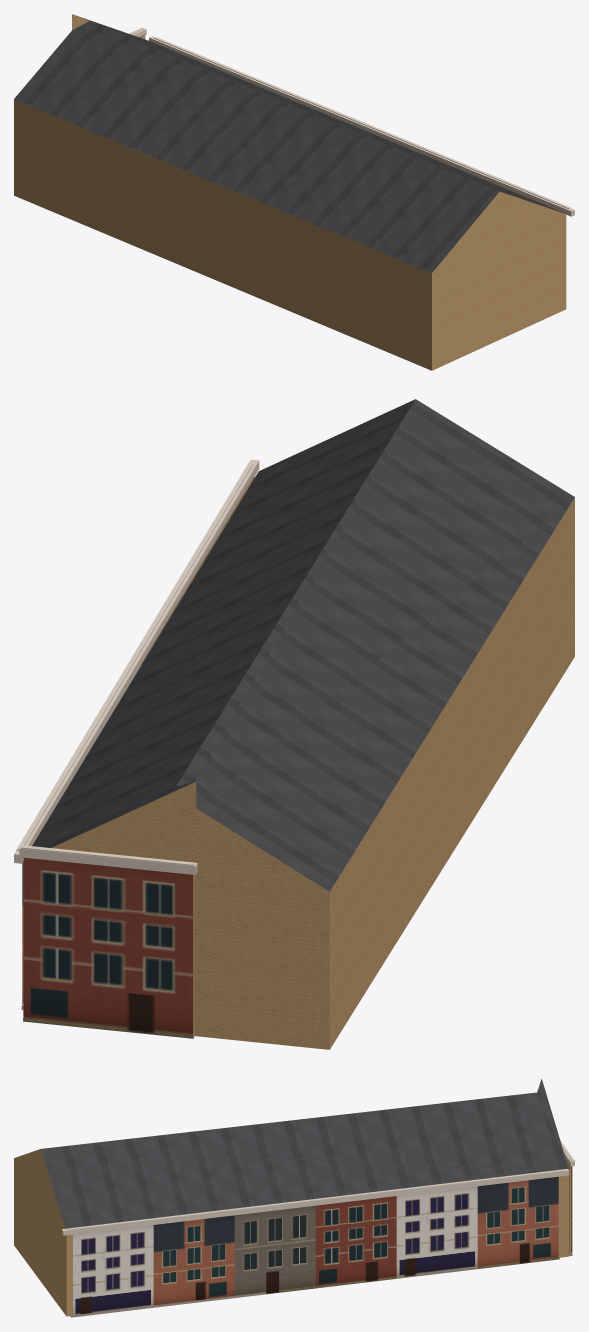
3 renders of one model, top to bottom at view 1: azimuth 30°, elevation 25°; view 2: azimuth 150°, elevation 25°; view 3: azimuth 270°, elevation 25°, orthographic. The views are drawn at different scales.
Visible parts, largest first — view 1: bldg_6004580886, bldg_6004580886_roof, bldg_6004580886_facade1; view 2: bldg_6004580886_roof, bldg_6004580886, bldg_6004580886_facade0, bldg_6004580886_facade1; view 3: bldg_6004580886_facade1, bldg_6004580886_roof, bldg_6004580886, bldg_6004580886_facade0.
Part boxes in pixels (x1,y1,x2,y2): bldg_6004580886: (14,14,566,370); bldg_6004580886_roof: (14,15,564,272); bldg_6004580886_facade1: (149,36,574,216); bldg_6004580886_roof: (32,399,574,891); bldg_6004580886: (23,468,574,1049); bldg_6004580886_facade0: (19,845,197,1038); bldg_6004580886_facade1: (14,459,259,1009); bldg_6004580886_facade1: (62,1169,569,1317); bldg_6004580886_roof: (40,1079,568,1228); bldg_6004580886: (14,1149,569,1316); bldg_6004580886_facade0: (560,1140,574,1255).
Bounding box in the file's own units: 22.83 × 11.16 × 40.82.
Materials: 5 (3 with a texture image).
